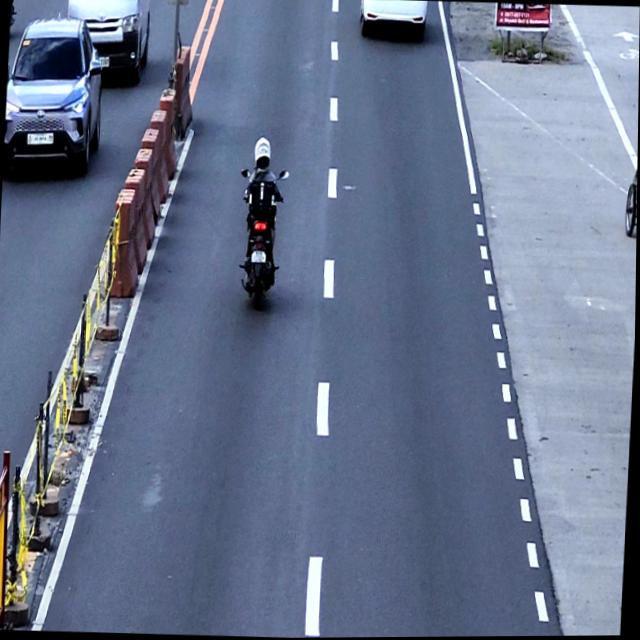Car: (3, 13, 106, 177), (59, 0, 152, 88), (359, 0, 428, 40)
License-Plate: (26, 131, 54, 145), (250, 249, 268, 265), (97, 56, 110, 69)
Motorcycle: (233, 166, 289, 312)
